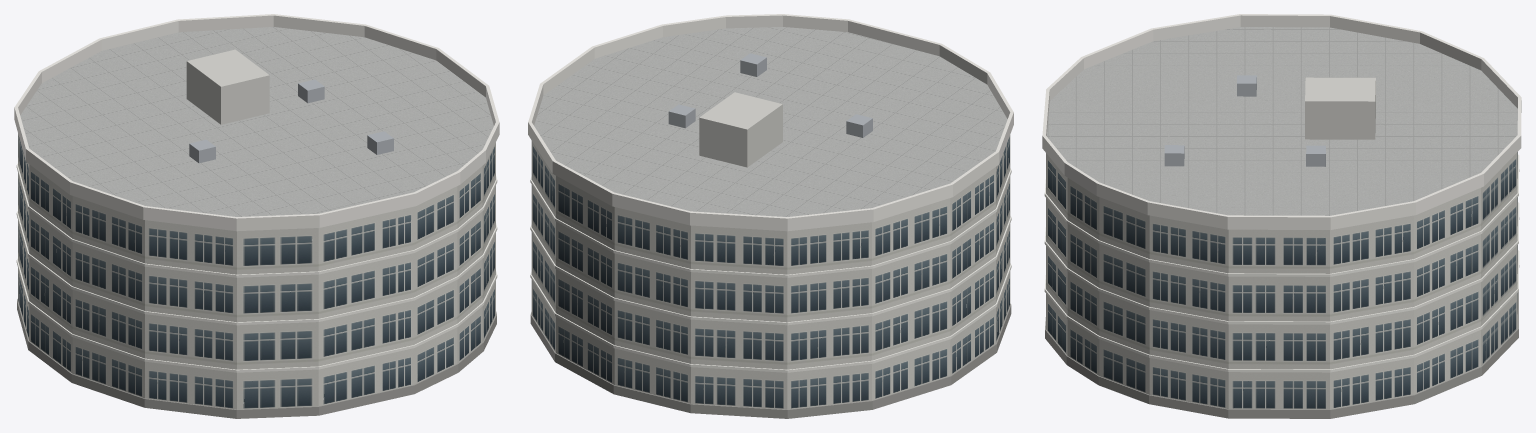
The picture shows the model from 3 angles, left to right: view 1: azimuth 30°, elevation 25°; view 2: azimuth 150°, elevation 25°; view 3: azimuth 270°, elevation 25°; orthographic projection.
Parts seen in each view (by area): view 1: 2474016; view 2: 2474016; view 3: 2474016.
Boxes of the visible parts, x1,y1,x2,y2 form: 2474016: [14, 14, 499, 418]; 2474016: [528, 14, 1013, 418]; 2474016: [1042, 14, 1521, 418].
Size of the model in its own units: 34.21 by 18 by 34.06.
Materials: 3 (2 with a texture image).
